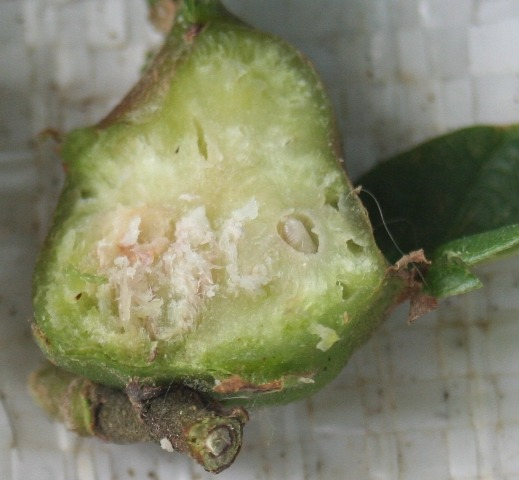galarisi: (14, 1, 417, 480)
